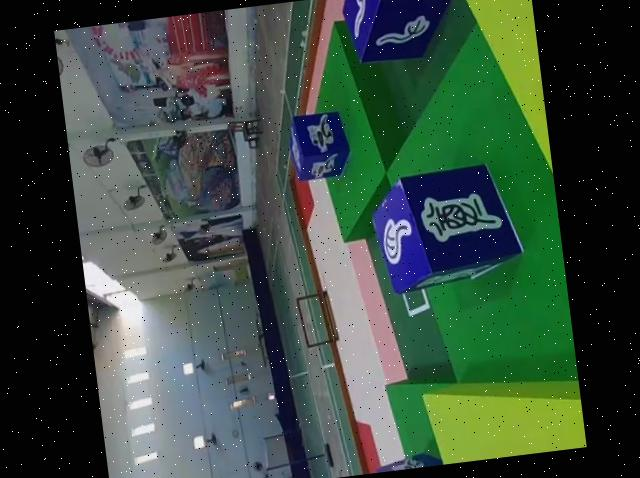R1 Blue: (287, 106, 356, 181)
R2 Fake Blue: (368, 163, 530, 299)
R2 Real Blue: (340, 0, 459, 64)
